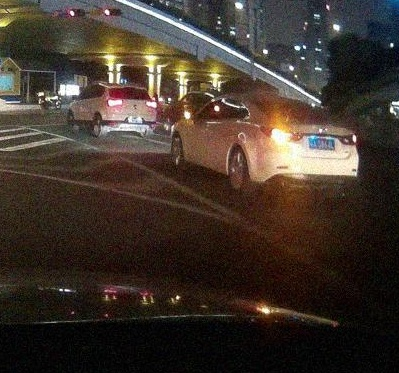L_light: (261, 125, 303, 141), (107, 99, 122, 106)
R_light: (337, 133, 357, 145), (145, 100, 156, 108)
T_light: (296, 104, 306, 107), (125, 87, 135, 89)
night-left: (250, 92, 360, 194)
night-no: (105, 84, 158, 138)
